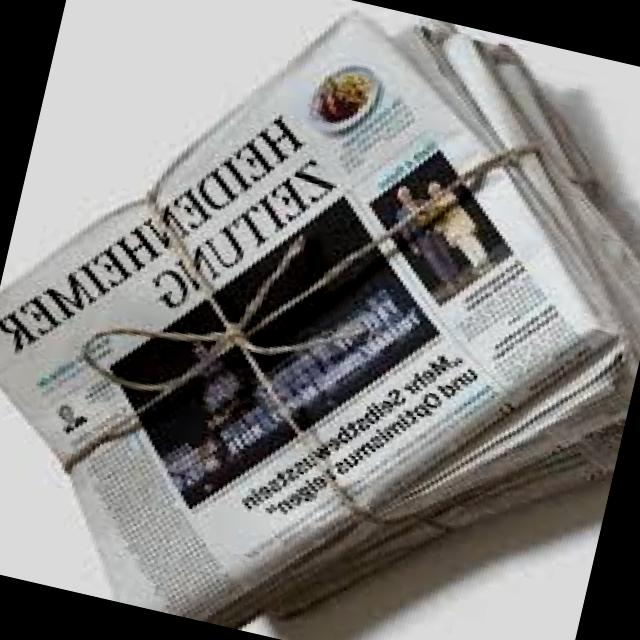paper: (154, 11, 640, 640), (0, 27, 255, 580)
